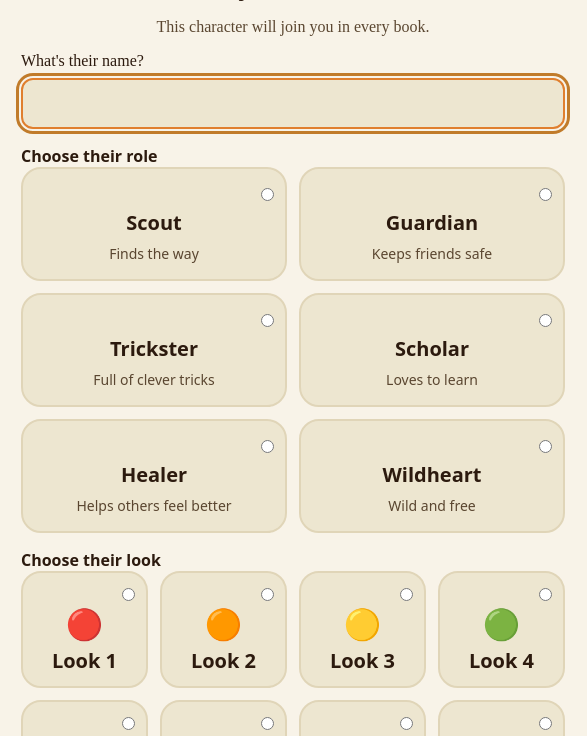
Scenario: CharacterCreator submit failures › re-enables the submit button after a failure so the child can retry
The width and height of the screenshot is (587, 736).
Step 1. Type "Luna" into the field labelled "What's their name?" → point(293, 104), box [21, 78, 565, 129]
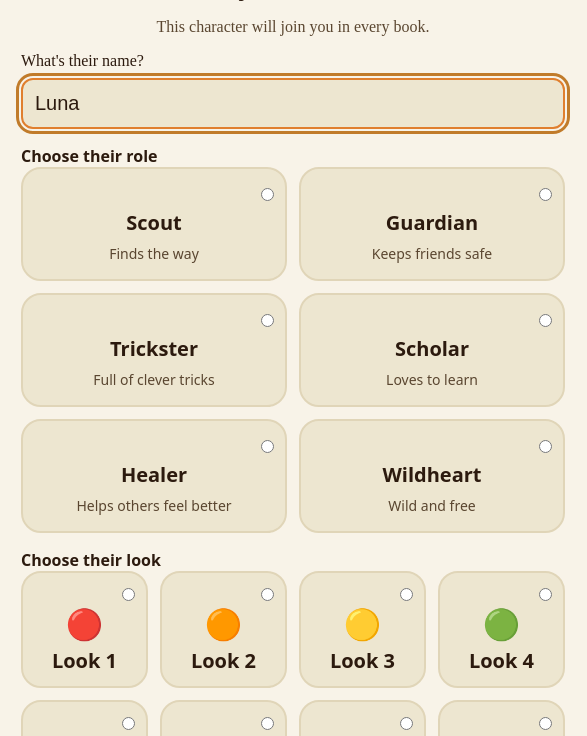
Step 2. Click the radio button labelled "Scout Finds the way" → point(268, 194), box [261, 188, 274, 201]
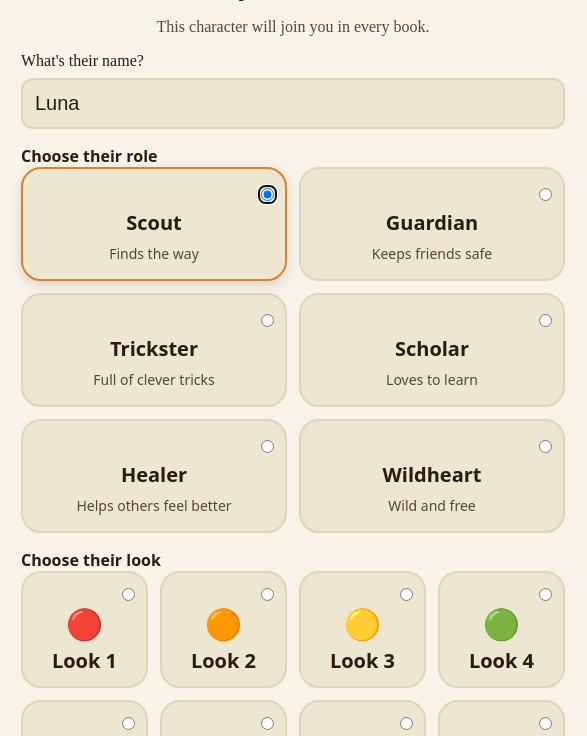
Step 3. Click the radio button labelled "🔴 Look 1" → point(128, 594), box [122, 588, 135, 601]
(page scrolled)
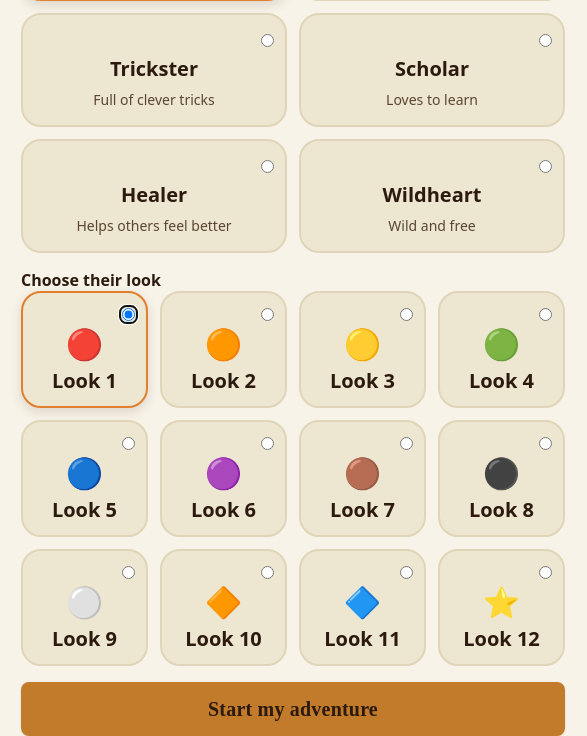
Step 4. Click the button "Start my adventure" → point(293, 709), box [21, 682, 565, 735]
(page scrolled)
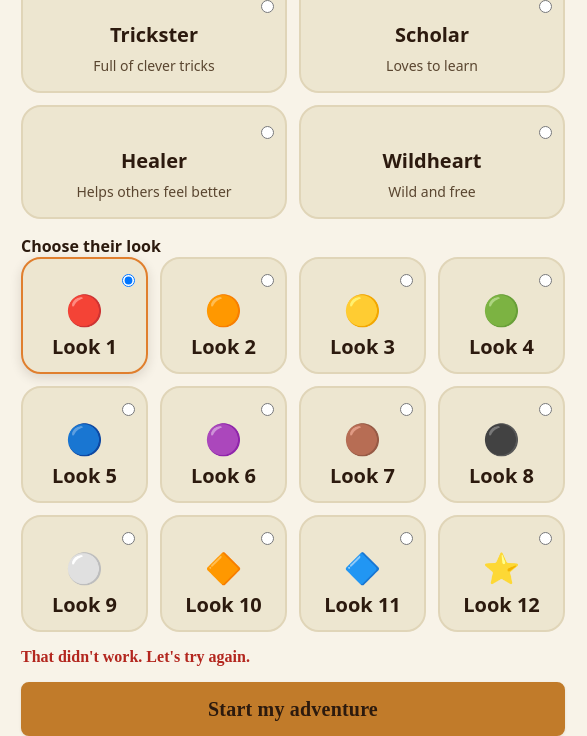
Now the text "That didn't work. Let's try again." is shown, box [21, 648, 250, 665]
